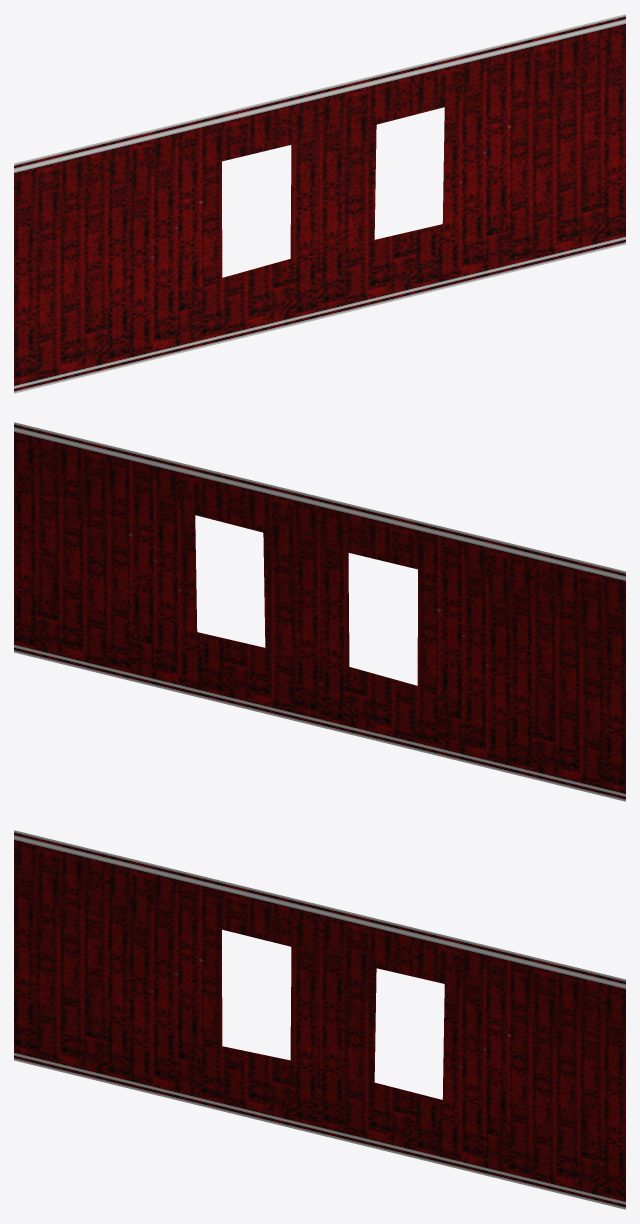
The model's file is W_ai2r_xffx [Rot]_2110.glb.
The picture shows the model from 3 angles, top to bottom: view 1: azimuth 30°, elevation 25°; view 2: azimuth 150°, elevation 25°; view 3: azimuth 330°, elevation 25°; orthographic projection.
Visible parts, largest first — view 1: polySurfaceShape898; view 2: polySurfaceShape898; view 3: polySurfaceShape898.
Boxes of the visible parts, x1=… form: polySurfaceShape898: x1=14, y1=14, x2=625, y2=393; polySurfaceShape898: x1=14, y1=422, x2=625, y2=801; polySurfaceShape898: x1=14, y1=830, x2=625, y2=1209.
Bounding box in the file's own units: 0.9692 × 0.3486 × 1.52e-08.
1 material, 1 textured.
